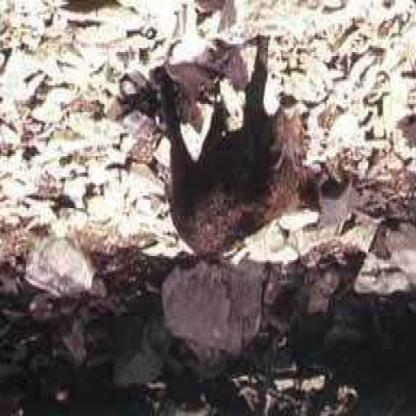boar: (153, 83, 346, 273)
